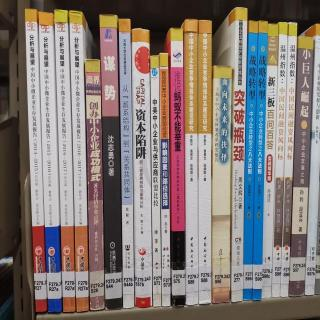book-spine: (36, 9, 62, 314), (98, 11, 123, 312), (24, 8, 47, 313), (288, 34, 314, 298), (67, 11, 89, 314), (54, 9, 75, 314), (81, 58, 106, 311), (209, 66, 235, 303), (116, 18, 136, 310), (131, 30, 152, 307), (271, 22, 290, 299), (260, 24, 279, 300), (168, 28, 186, 307), (241, 21, 259, 300), (231, 8, 247, 303), (197, 22, 213, 305), (281, 20, 297, 298), (184, 20, 199, 306), (253, 20, 266, 303), (158, 53, 172, 308), (150, 57, 162, 306)
